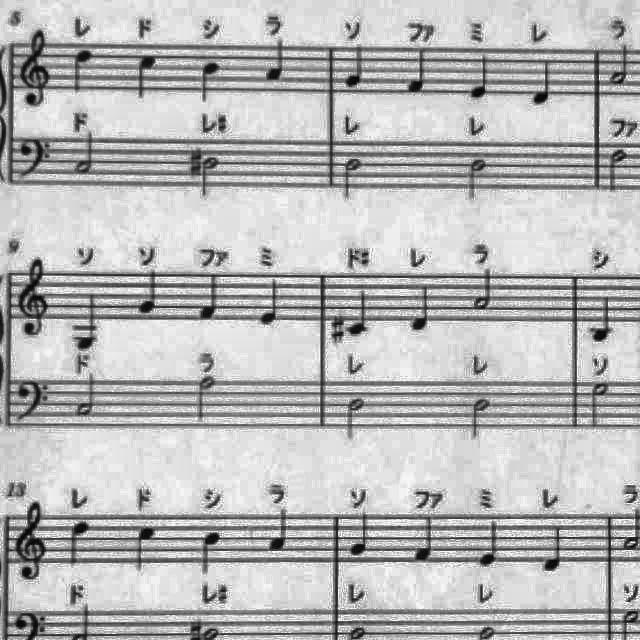Bass-clef: (11, 370, 53, 428), (14, 133, 54, 185)
Diez: (330, 312, 348, 348), (185, 142, 202, 178)
Half-note: (604, 144, 636, 196), (468, 394, 496, 446), (72, 368, 100, 420), (193, 372, 220, 424), (586, 377, 612, 431), (72, 130, 100, 180), (342, 393, 370, 443), (338, 153, 366, 203), (464, 155, 491, 205), (608, 41, 636, 88), (472, 264, 498, 314), (200, 154, 222, 202)
Quarter-note: (71, 290, 105, 354), (584, 292, 616, 350), (64, 514, 95, 570), (412, 510, 441, 568), (537, 522, 567, 578), (131, 521, 161, 575), (134, 48, 162, 104), (68, 44, 96, 100), (476, 514, 504, 570), (197, 526, 227, 578), (405, 44, 433, 98), (256, 275, 284, 329), (196, 267, 224, 321), (264, 505, 294, 555), (261, 37, 291, 87), (527, 58, 555, 110), (134, 266, 162, 318), (346, 510, 374, 562), (342, 40, 370, 91), (408, 281, 434, 335), (345, 286, 371, 340), (198, 56, 226, 106), (468, 49, 494, 102)
Treble-clef: (13, 253, 53, 343), (10, 498, 50, 586), (15, 24, 53, 110)
